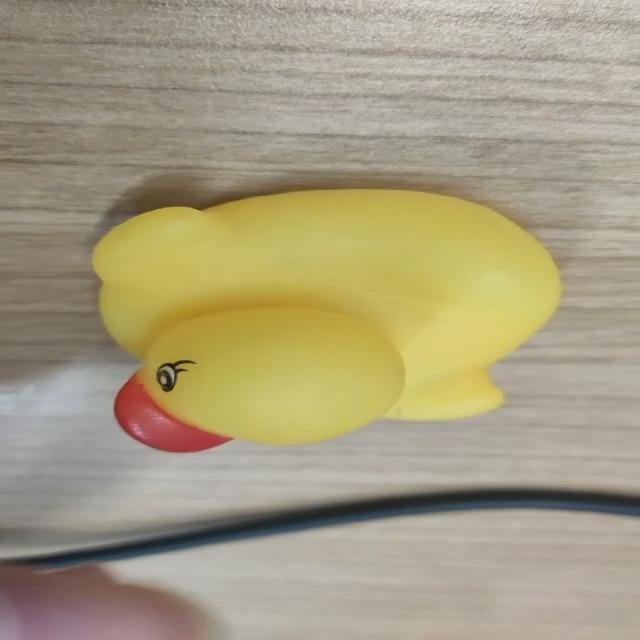rubber-duck: (92, 189, 559, 450)
